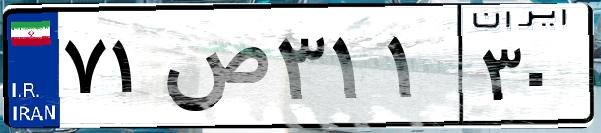0: (525, 38, 570, 115)
1: (385, 28, 445, 110), (330, 28, 385, 110), (110, 28, 158, 98)
3: (270, 28, 330, 110), (475, 38, 525, 113)
7: (57, 26, 110, 100)
ص: (158, 20, 270, 120)
